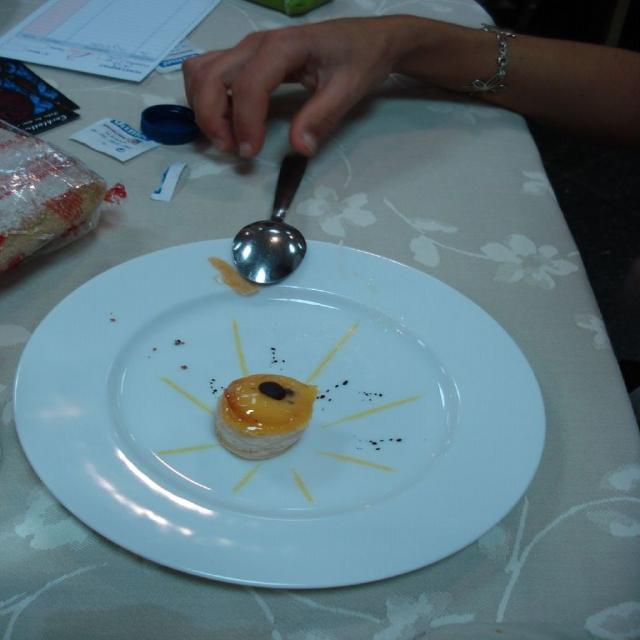non-organic waste: (0, 219, 571, 604)
